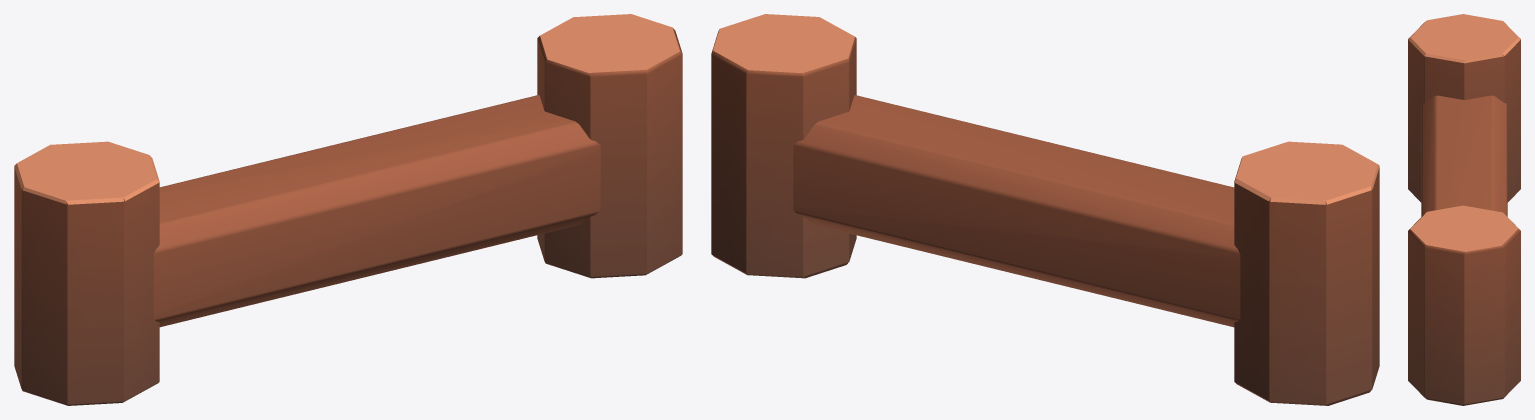
File: kenney-platformer__fence-low-straight.glb
The picture shows the model from 3 angles, left to right: view 1: azimuth 30°, elevation 25°; view 2: azimuth 150°, elevation 25°; view 3: azimuth 270°, elevation 25°; orthographic projection. The views are drawn at different scales.
Visible parts, largest first — view 1: fence-low-straight; view 2: fence-low-straight; view 3: fence-low-straight.
Boxes of the visible parts, left/top/right/bottom form: fence-low-straight: left=14, top=14, right=682, bottom=405; fence-low-straight: left=711, top=14, right=1379, bottom=405; fence-low-straight: left=1408, top=14, right=1520, bottom=405.
Size of the model in its own units: 0.9992 by 0.3 by 0.1992.
1 material, 1 textured.
